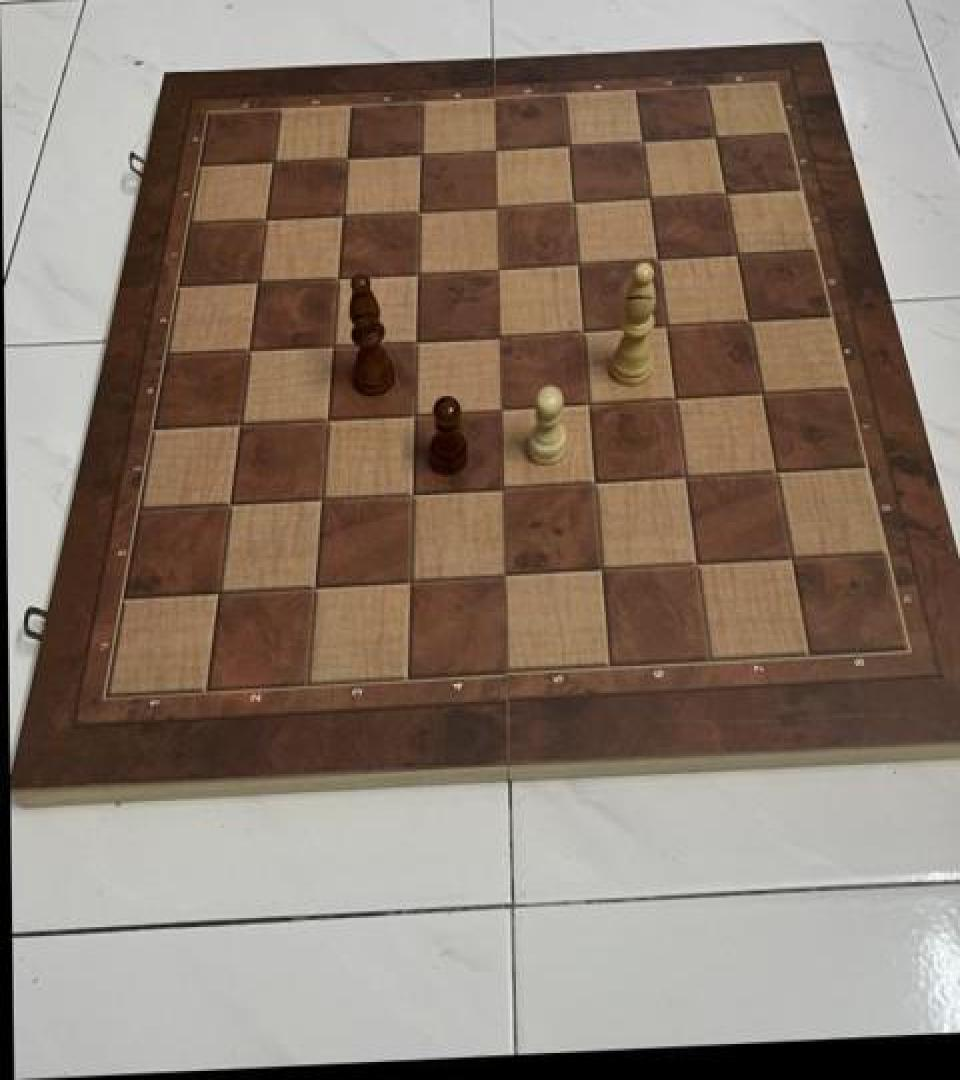xcorner: (329, 138, 363, 177), (708, 173, 742, 212), (555, 182, 589, 221), (248, 200, 282, 239), (576, 462, 610, 501), (698, 117, 732, 155), (624, 121, 658, 159), (551, 125, 585, 163), (477, 130, 511, 168), (403, 134, 437, 172), (255, 143, 289, 181), (632, 178, 666, 216), (478, 187, 512, 225), (401, 192, 435, 230), (324, 196, 358, 234), (719, 234, 753, 272), (639, 240, 673, 278), (560, 244, 594, 282), (480, 249, 514, 287), (400, 253, 434, 291), (320, 258, 354, 296), (240, 262, 274, 300), (731, 300, 765, 338), (648, 306, 682, 344), (565, 310, 599, 348), (481, 315, 515, 353), (398, 321, 432, 359), (315, 325, 349, 363), (232, 331, 266, 369), (744, 374, 778, 412), (657, 378, 691, 416), (570, 384, 604, 422), (483, 388, 517, 426), (396, 394, 430, 432), (310, 398, 344, 436), (223, 404, 257, 442), (758, 451, 792, 489), (667, 457, 701, 495), (485, 468, 519, 506), (395, 474, 429, 512), (304, 478, 338, 516), (213, 484, 247, 522), (773, 538, 807, 576), (678, 544, 712, 582), (583, 549, 617, 587), (488, 555, 522, 593), (393, 560, 427, 598), (297, 566, 331, 604), (202, 572, 236, 610)
